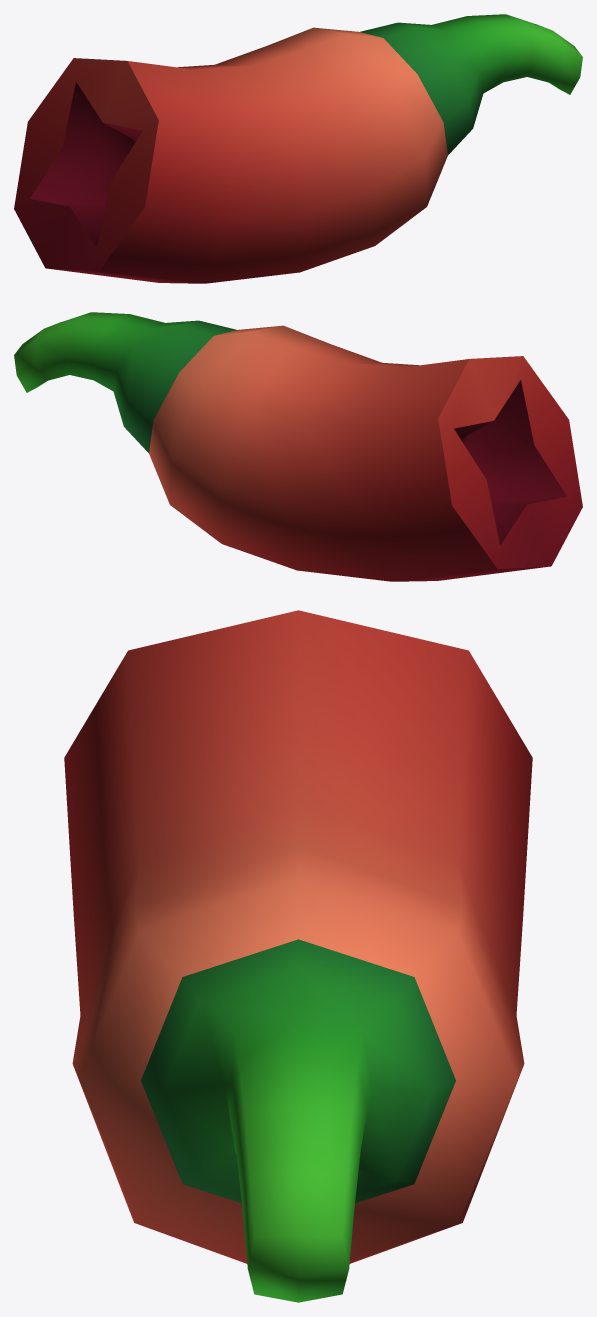
File: Chili_Pepper_Slice_01.glb
The picture shows the model from 3 angles, top to bottom: view 1: azimuth 30°, elevation 25°; view 2: azimuth 150°, elevation 25°; view 3: azimuth 270°, elevation 25°; orthographic projection. The views are drawn at different scales.
Parts seen in each view (by area): view 1: Chili_Pepper_Slice_01; view 2: Chili_Pepper_Slice_01; view 3: Chili_Pepper_Slice_01.
Part boxes in pixels (x1,y1,x2,y2): Chili_Pepper_Slice_01: (14,14,582,283); Chili_Pepper_Slice_01: (14,312,582,581); Chili_Pepper_Slice_01: (64,610,532,1302).
Size of the model in its own units: 0.2841 by 0.1248 by 0.1089.
1 material, 1 textured.
